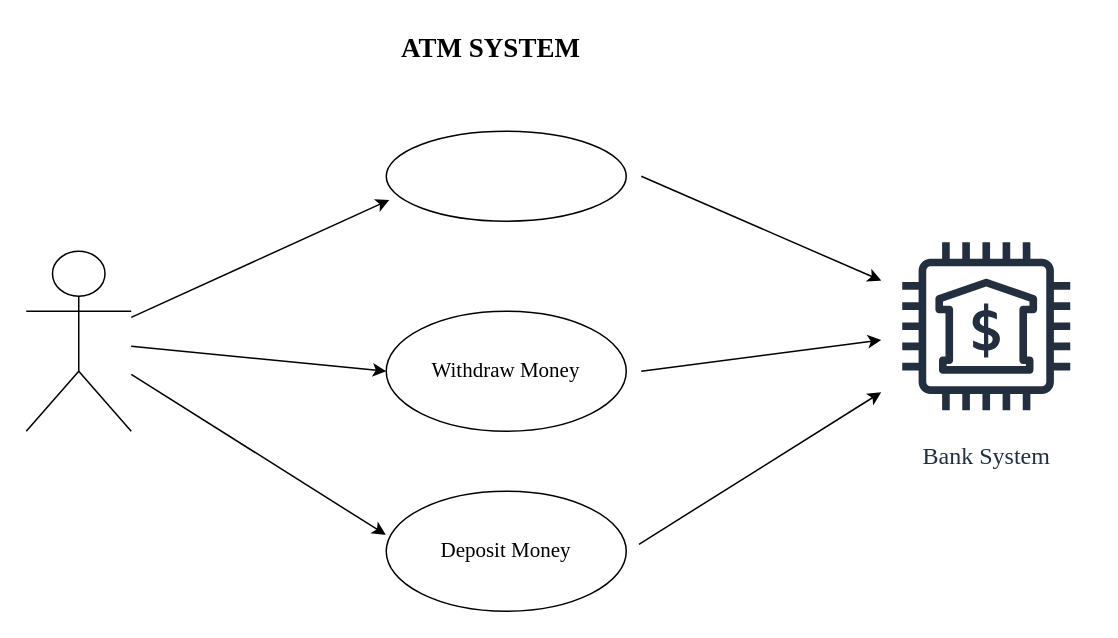
The diagram is 1118 pixels wide and 638 high, and some of its shapes have lost their labels. The centre of each missing label's shape, as x and y in pixels:
"Check Balance" goes at [505,175].
"User" goes at [78,340].
